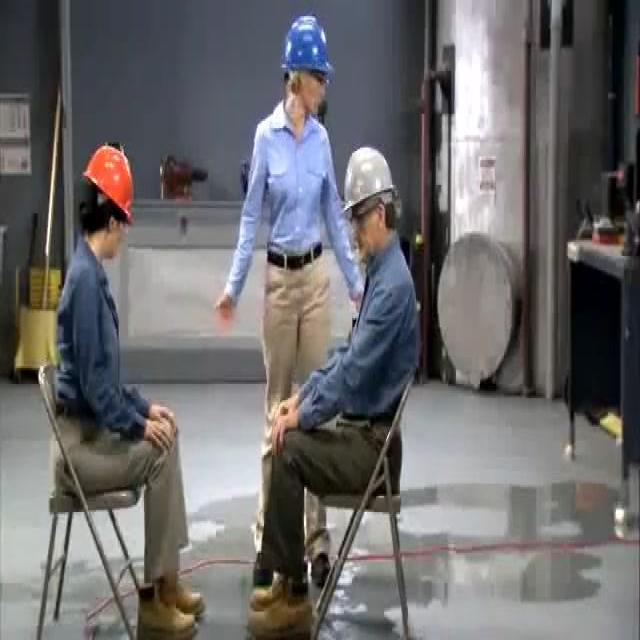Safety-Helmet: (76, 132, 143, 235), (339, 137, 401, 220), (276, 7, 336, 84)
